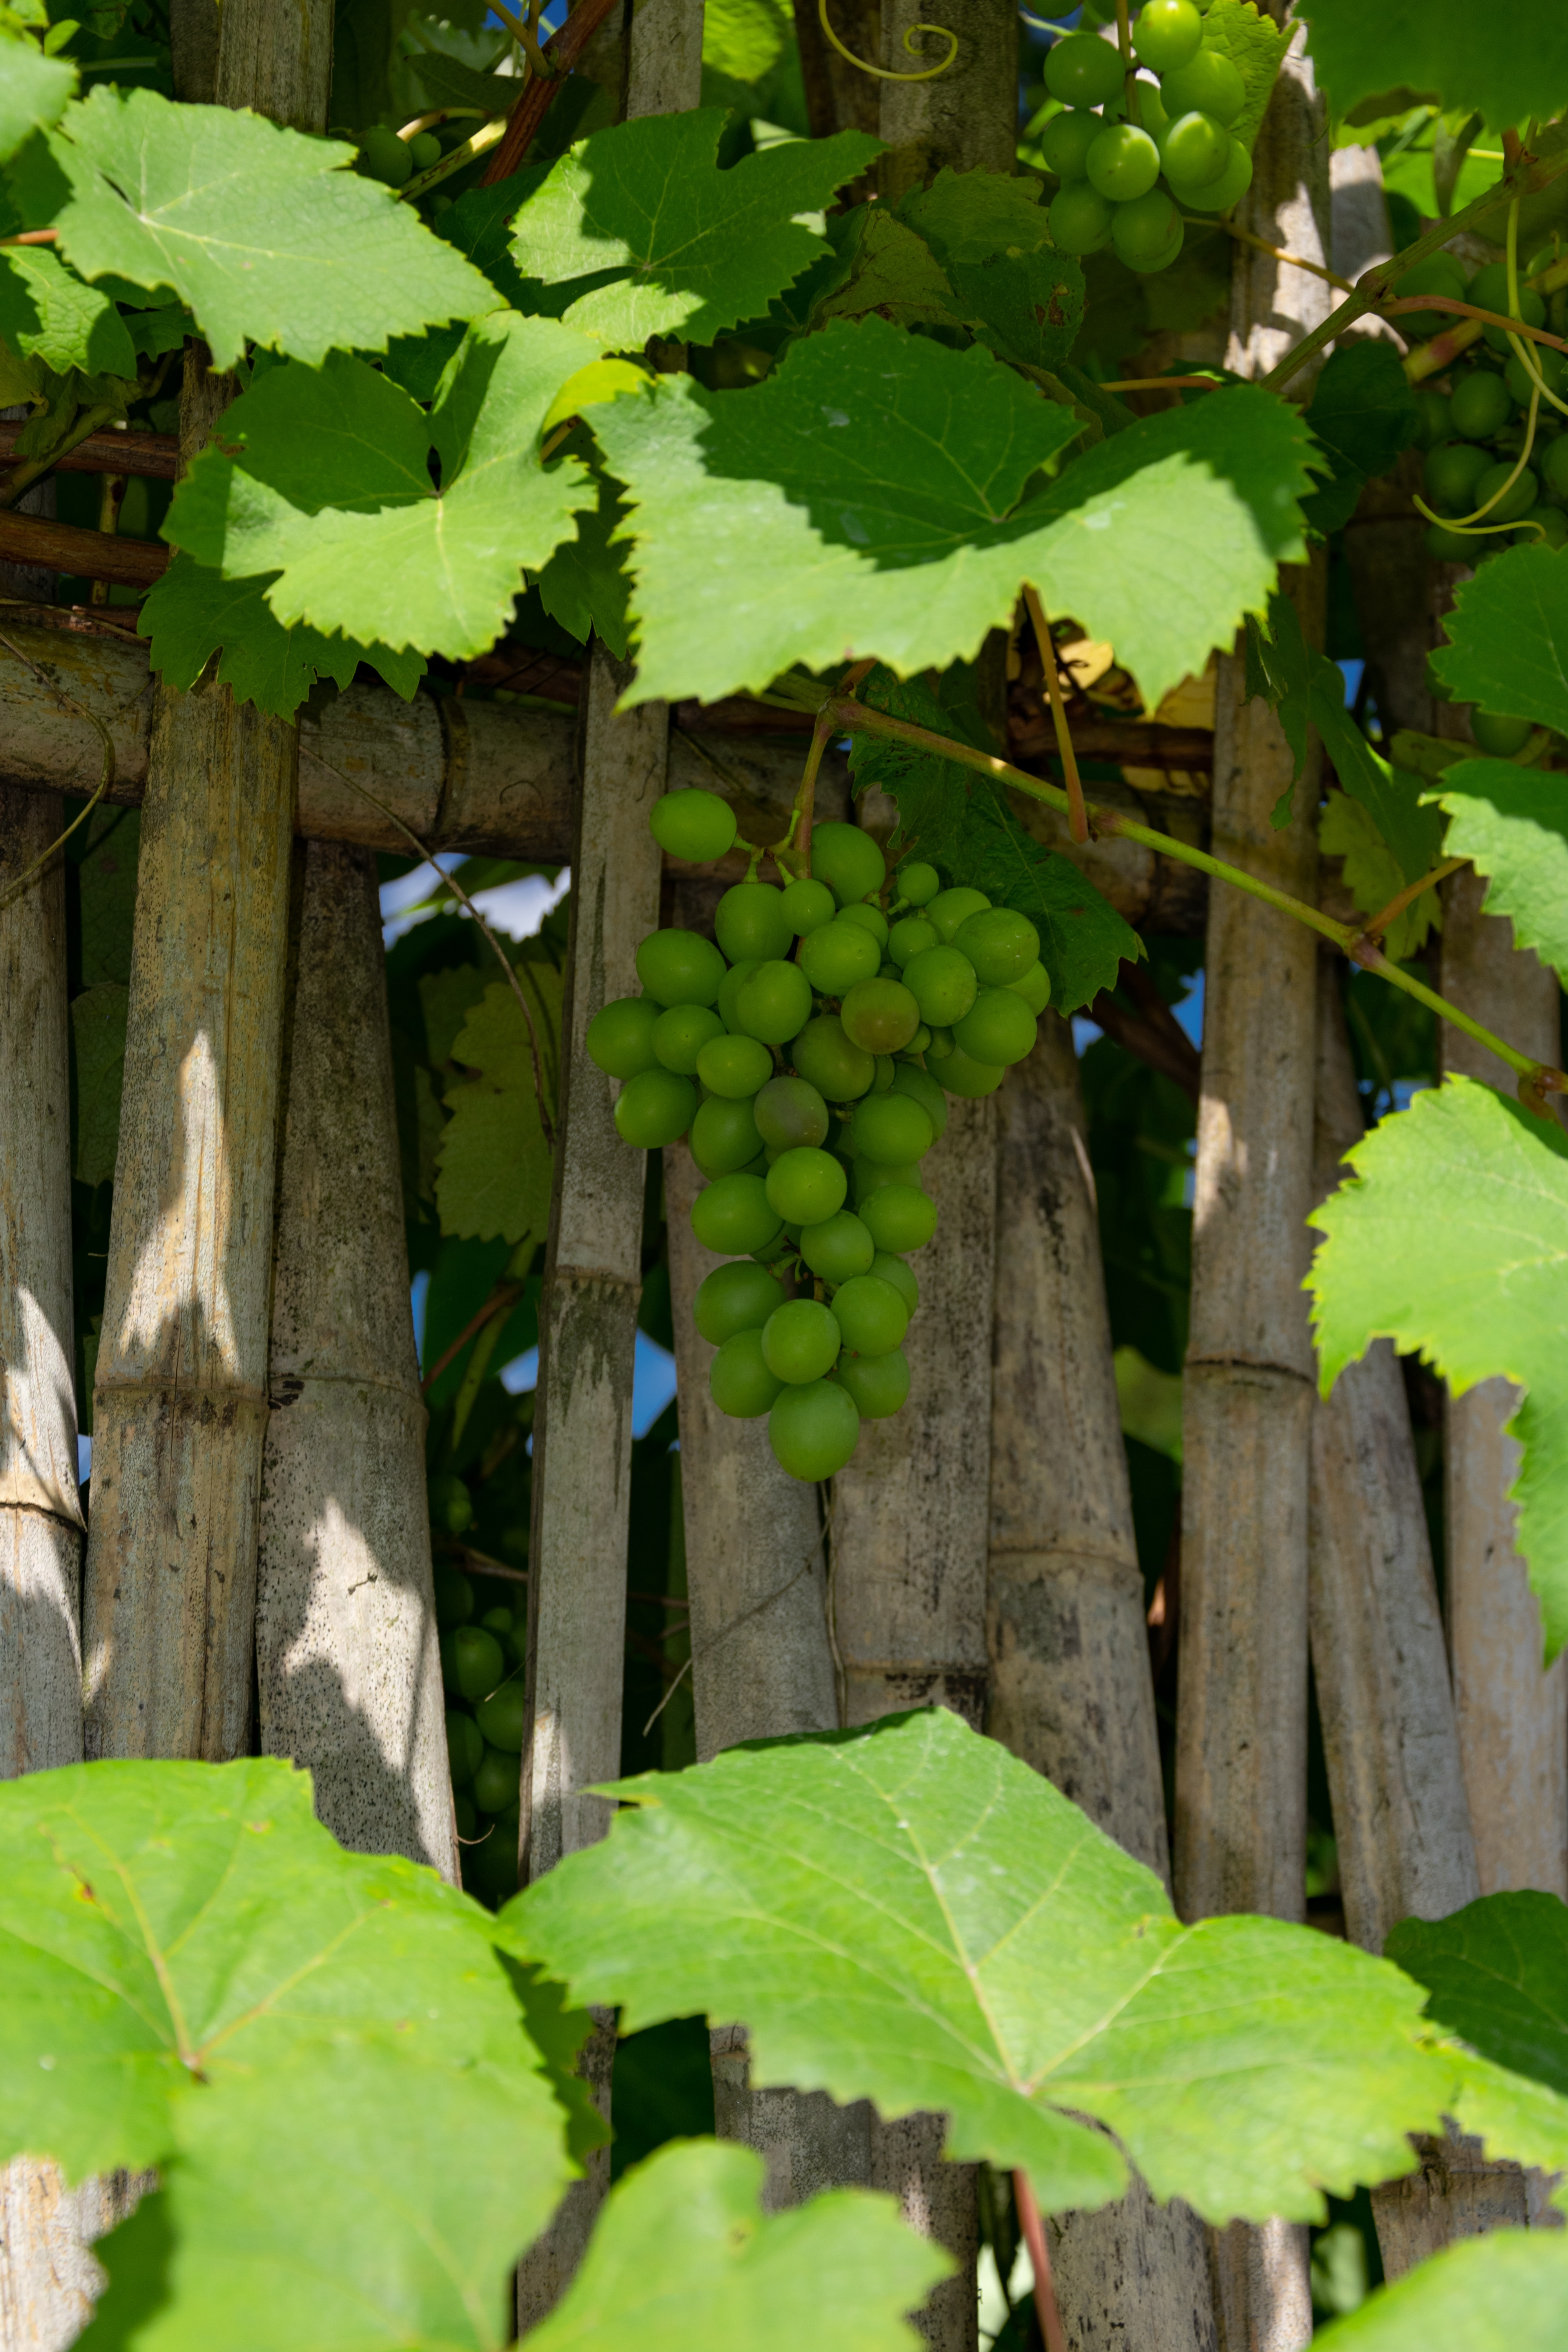healthy: (772, 1384, 847, 1475), (647, 791, 735, 863), (798, 828, 878, 898), (970, 987, 1041, 1064), (772, 1155, 854, 1221), (728, 963, 803, 1034), (642, 935, 716, 1004), (698, 1179, 773, 1248), (896, 949, 968, 1019), (700, 1267, 773, 1335), (856, 1102, 936, 1162), (621, 1078, 695, 1143), (772, 1306, 837, 1379), (803, 927, 873, 994), (583, 999, 644, 1074), (709, 1341, 773, 1410), (968, 912, 1032, 978), (842, 1353, 914, 1410), (814, 1027, 866, 1102), (801, 1221, 875, 1274), (843, 1284, 905, 1346), (705, 1031, 765, 1094), (698, 1106, 758, 1169), (870, 1195, 940, 1248), (724, 892, 782, 955), (653, 1004, 702, 1069), (896, 866, 938, 906), (908, 1032, 949, 1071)
unhealthy: (758, 1080, 829, 1148), (843, 980, 910, 1053)
